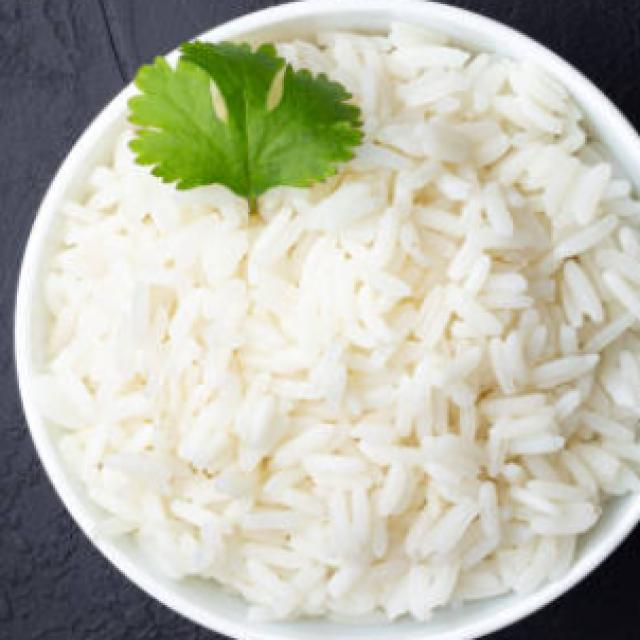rice: (70, 102, 640, 604)
